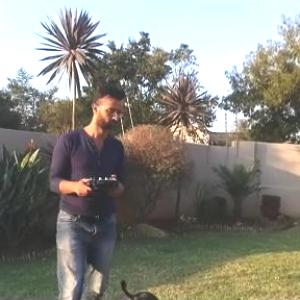follow: (45, 75, 129, 299)
